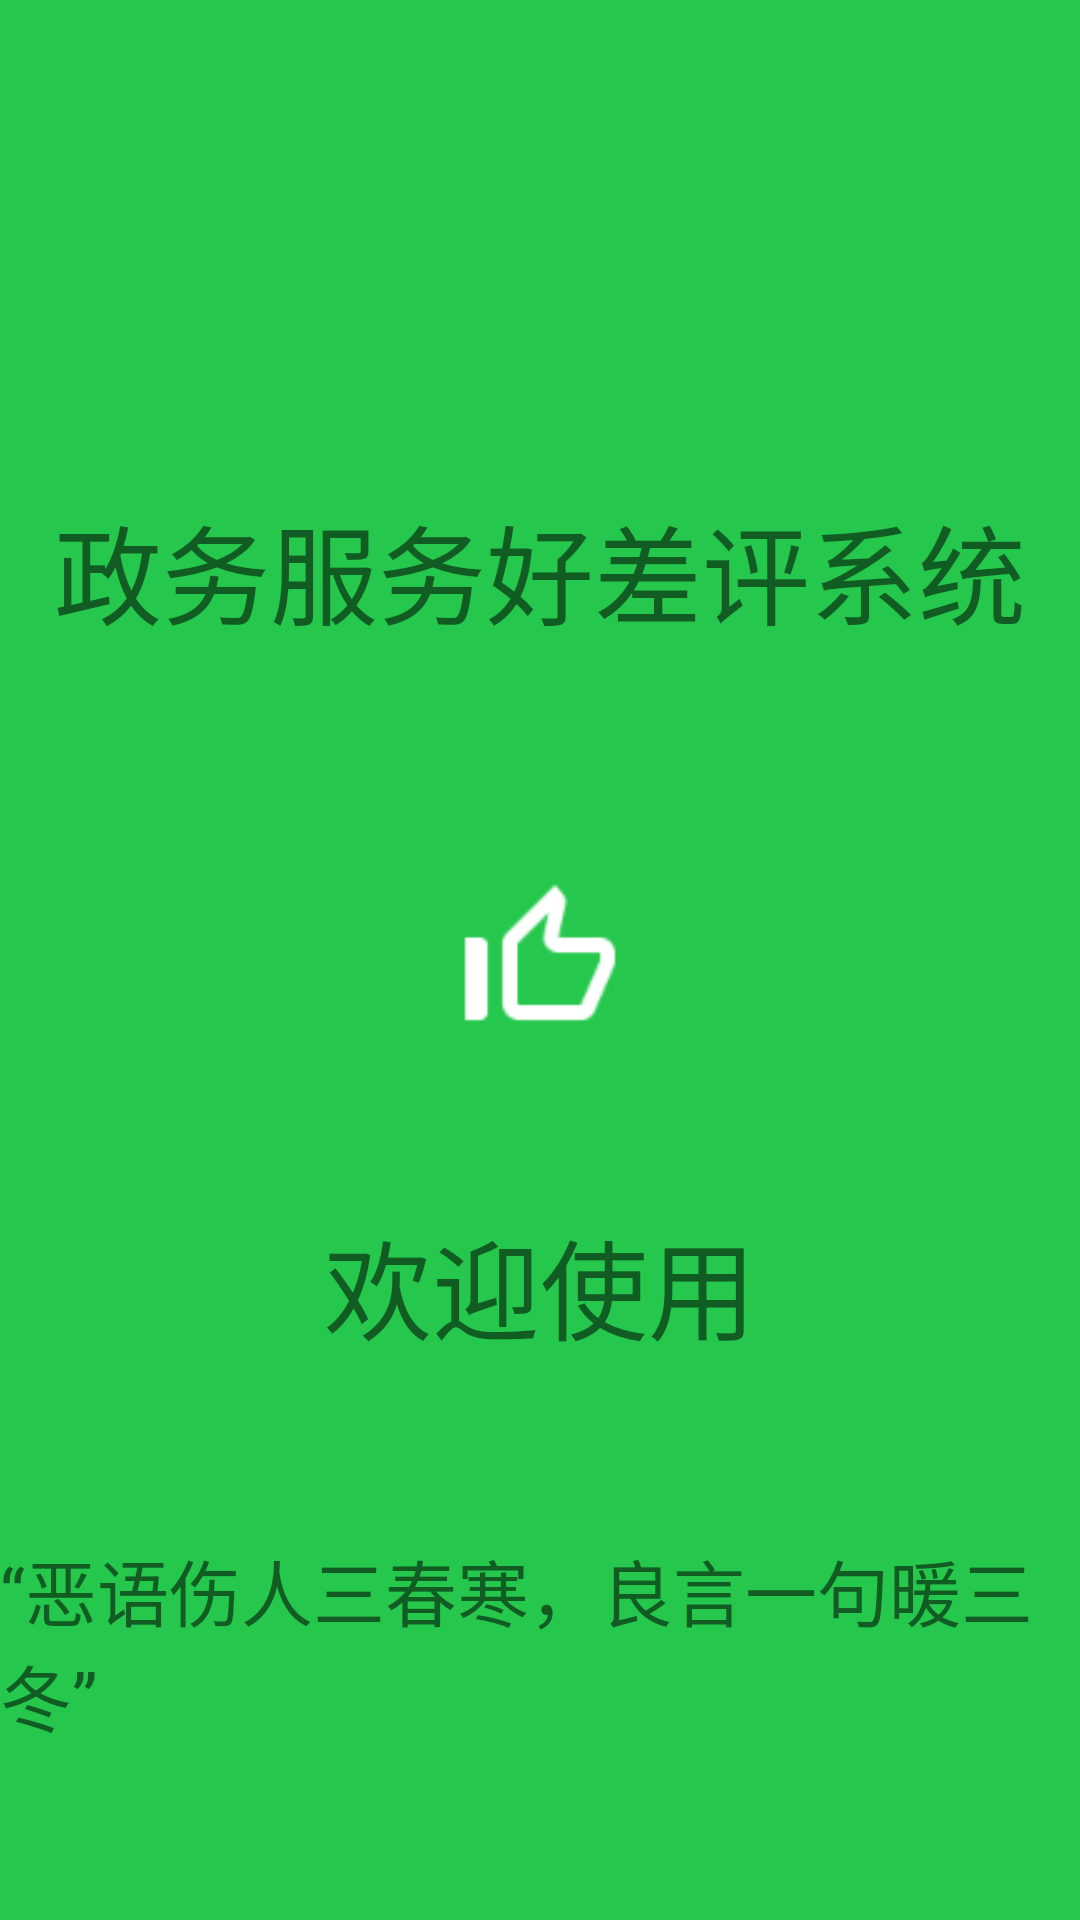

Icon bounding boxes for this 1080x1920 phone screenshot, format (x1, y1, x2, y2):
shortcut thumb up off: (464, 884, 616, 1021)
